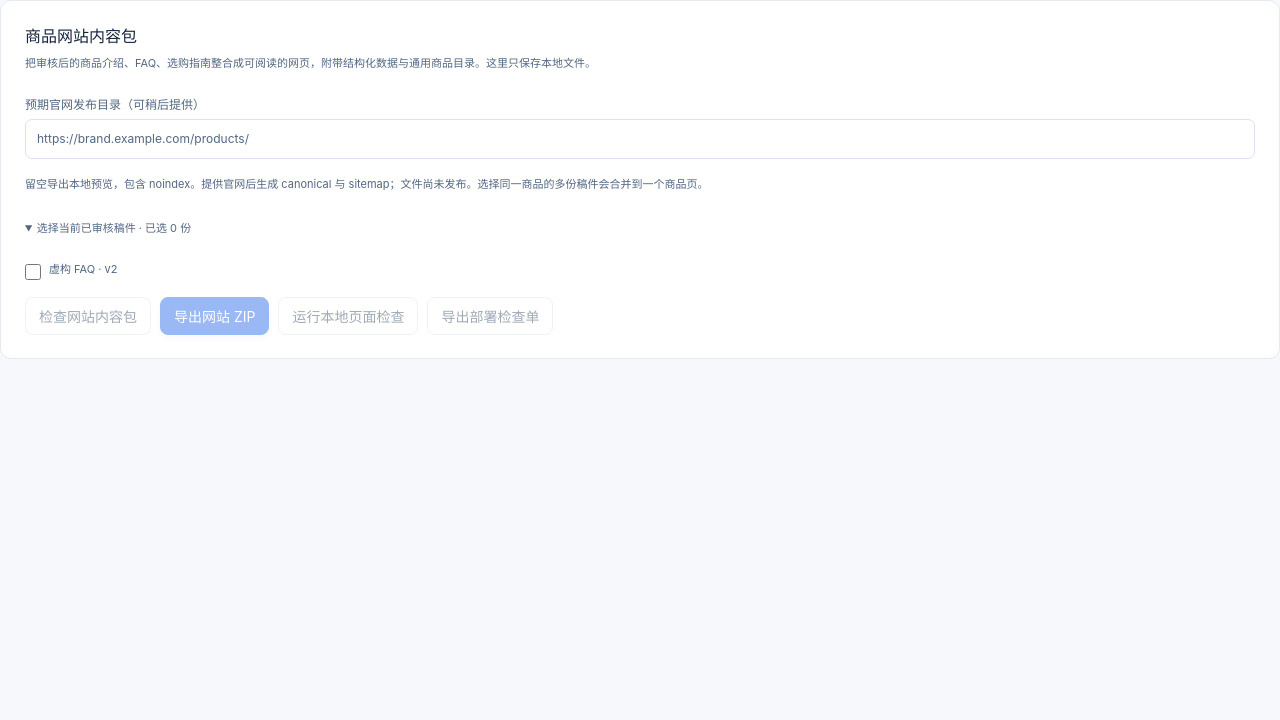
it: invalidates readiness after input edits and a changed workspace
The width and height of the screenshot is (1280, 720).
Click the checkbox: (33, 272) x1=25 y1=264 x2=41 y2=280
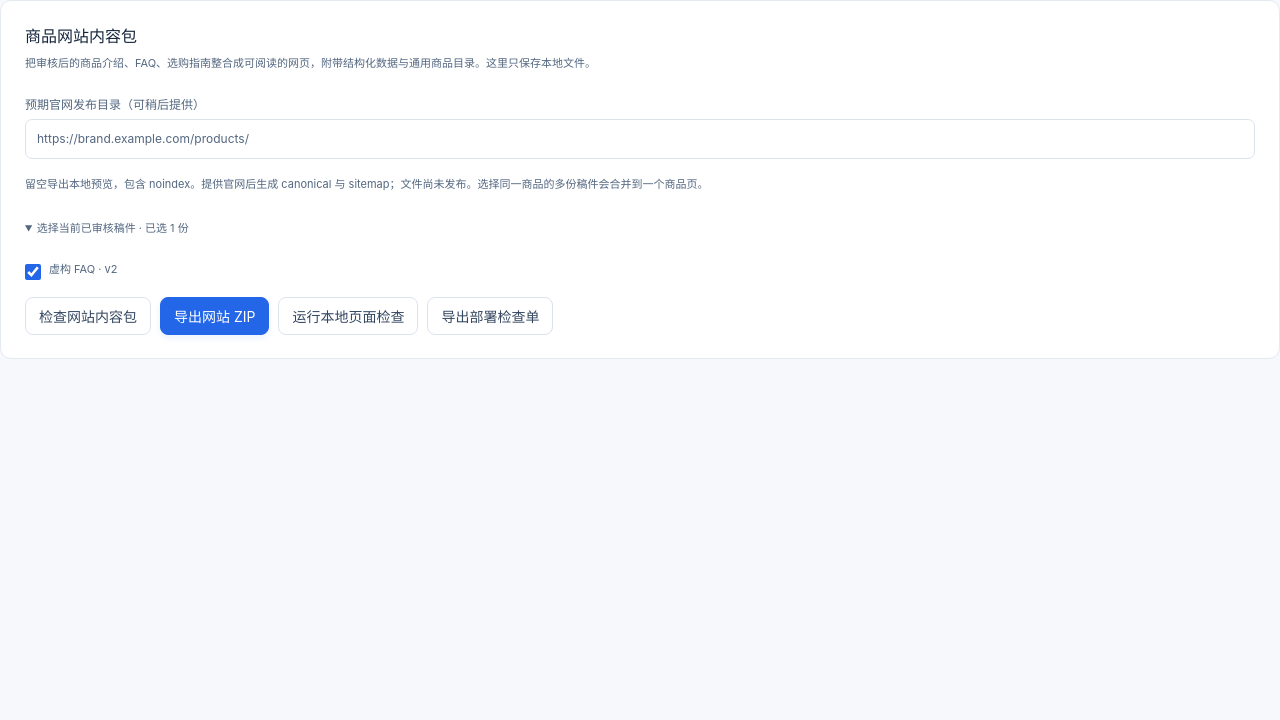
Click the button "检查网站内容包": (88, 316) x1=25 y1=297 x2=151 y2=335
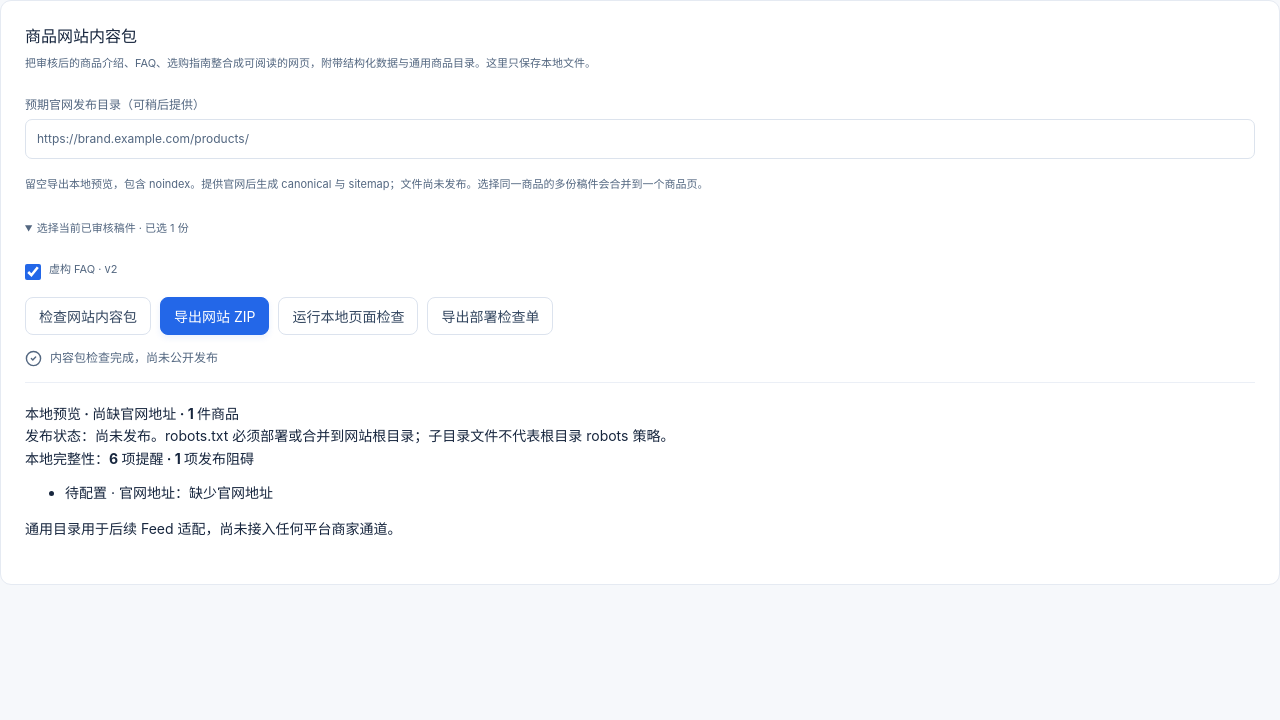
Check: the element named "本地完整性检查" is shown, box x1=25 y1=450 x2=273 y2=501
In the field: (640, 139) x1=25 y1=119 x2=1255 y2=159, type "https://example.com/"
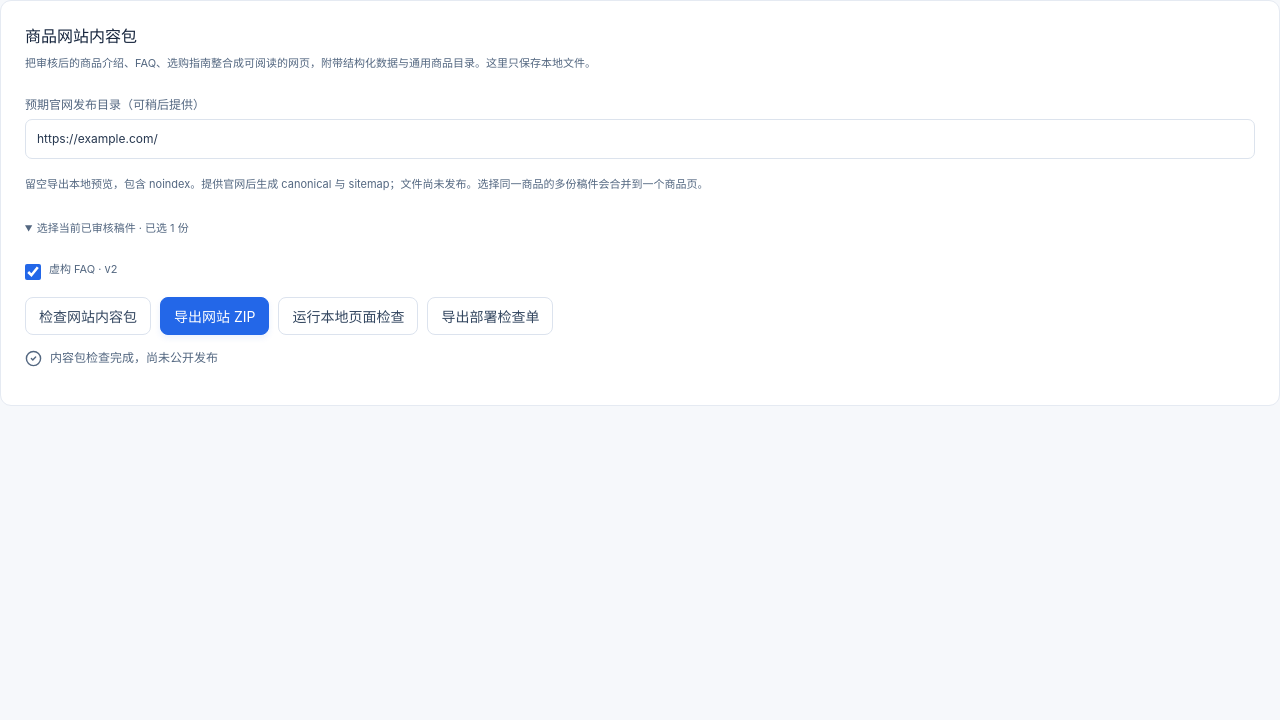
Check: the field labelled "本地完整性检查" is gone
Click the button "检查网站内容包": (88, 316) x1=25 y1=297 x2=151 y2=335
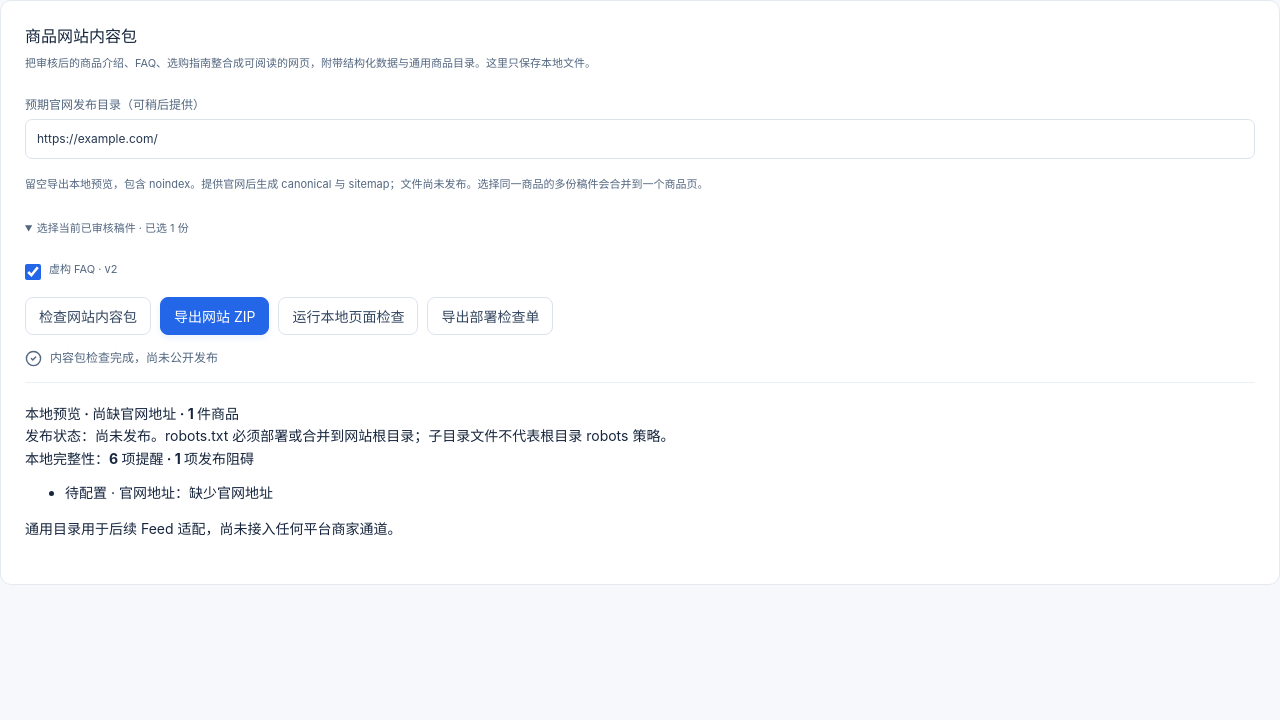
Check: the element named "本地完整性检查" is shown, box x1=25 y1=450 x2=273 y2=501
